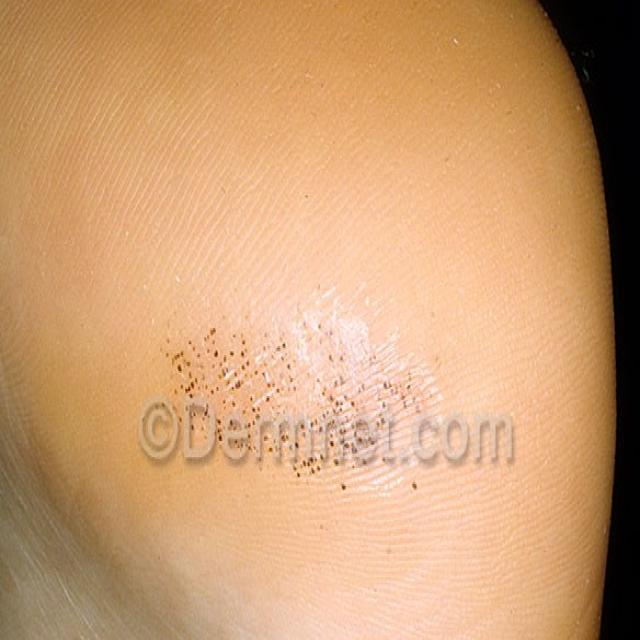Viral Infections: (153, 279, 457, 532)
